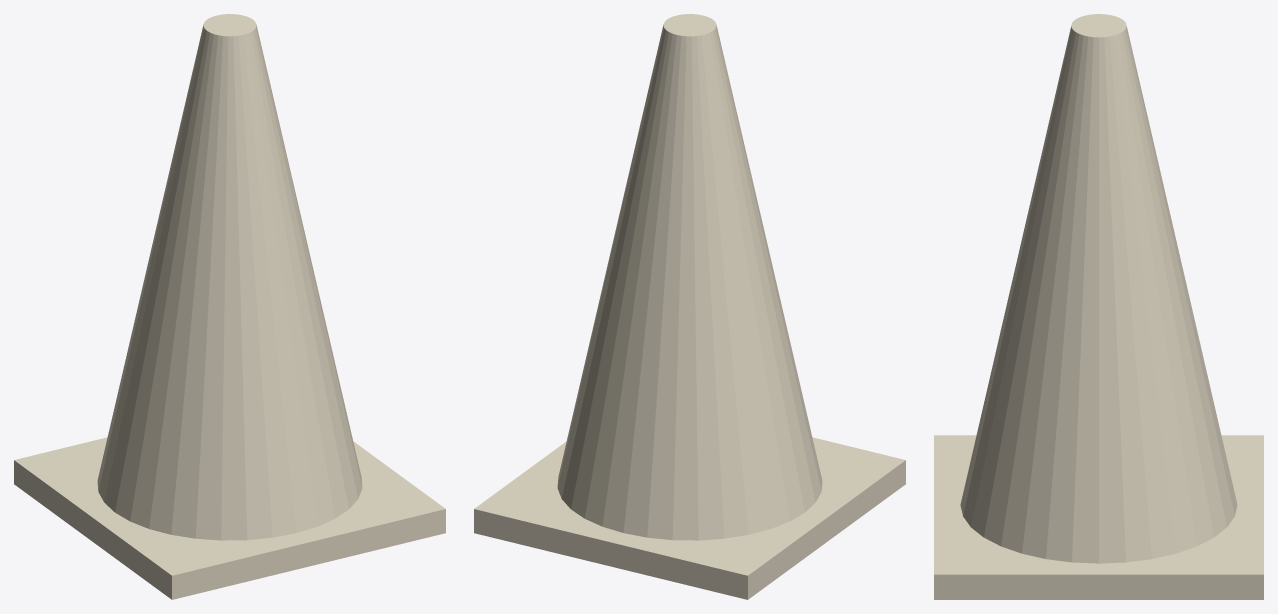
The model's file is place-great-mosque-of-samarra.glb.
3 renders of one model, left to right at view 1: azimuth 30°, elevation 25°; view 2: azimuth 150°, elevation 25°; view 3: azimuth 270°, elevation 25°, orthographic. The views are drawn at different scales.
Visible parts, largest first — view 1: place-great-mosque-of-samarra; view 2: place-great-mosque-of-samarra; view 3: place-great-mosque-of-samarra.
Part boxes in pixels (bbox=[...]): place-great-mosque-of-samarra: bbox=[14, 14, 445, 599]; place-great-mosque-of-samarra: bbox=[474, 14, 905, 599]; place-great-mosque-of-samarra: bbox=[934, 14, 1263, 599].
Bounding box in the file's own units: 32 × 54 × 32.
